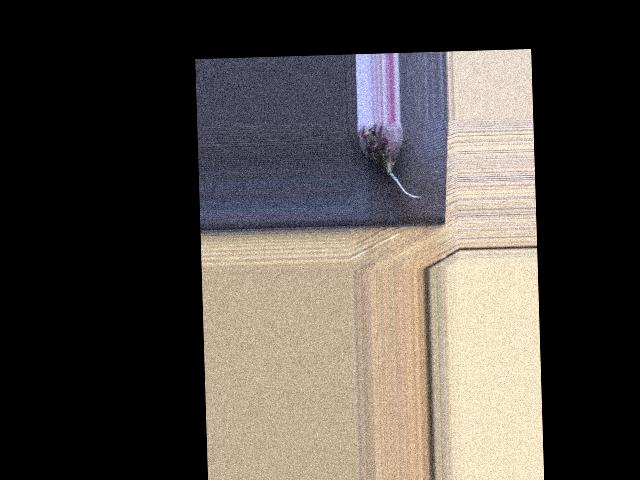beet: (356, 121, 420, 200)
